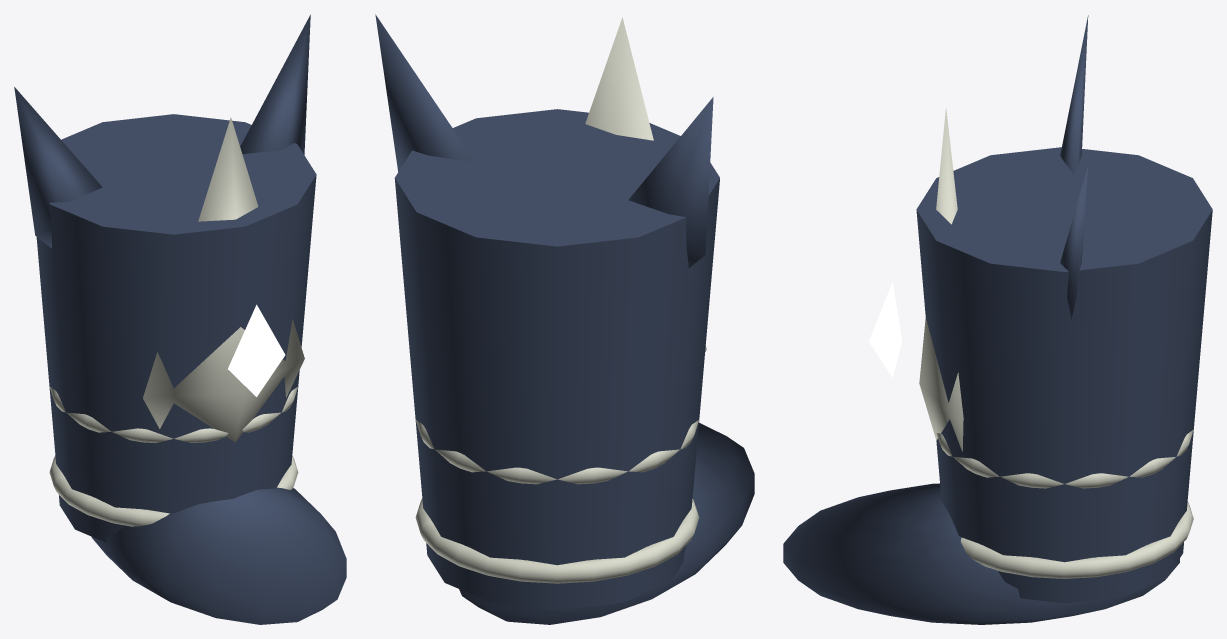
File: boss_pale_requiem_boots_1.glb
The picture shows the model from 3 angles, left to right: view 1: azimuth 30°, elevation 25°; view 2: azimuth 150°, elevation 25°; view 3: azimuth 270°, elevation 25°; orthographic projection. The views are drawn at different scales.
Visible parts, largest first — view 1: Boss_pale_requiem_0, Boss_pale_requiem_1, Boss_pale_requiem_2; view 2: Boss_pale_requiem_0, Boss_pale_requiem_1; view 3: Boss_pale_requiem_0, Boss_pale_requiem_1, Boss_pale_requiem_2.
Part boxes in pixels (x1,y1,x2,y2): Boss_pale_requiem_0: (14,14,346,624); Boss_pale_requiem_1: (49,117,304,526); Boss_pale_requiem_2: (228,304,285,396); Boss_pale_requiem_0: (375,14,754,624); Boss_pale_requiem_1: (415,17,706,583); Boss_pale_requiem_0: (783,15,1212,624); Boss_pale_requiem_1: (919,107,1193,578); Boss_pale_requiem_2: (869,282,902,377).
Size of the model in its own units: 0.3 by 0.482 by 0.3624.
